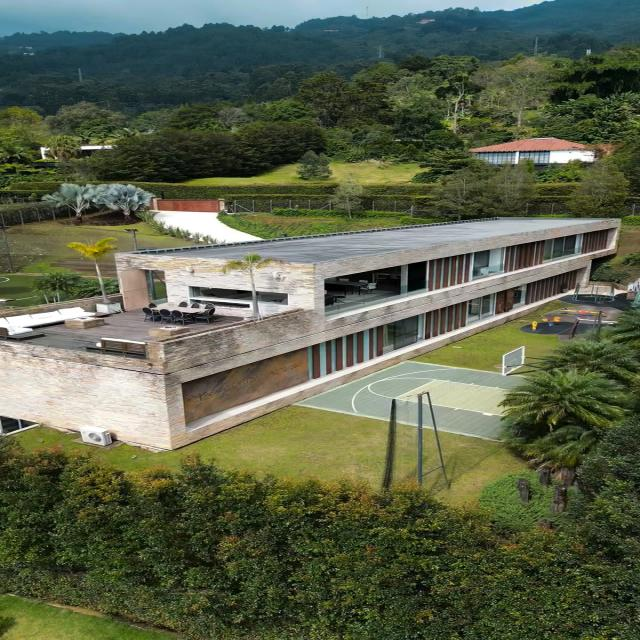Fachada: (1, 218, 620, 448), (471, 138, 595, 168)
